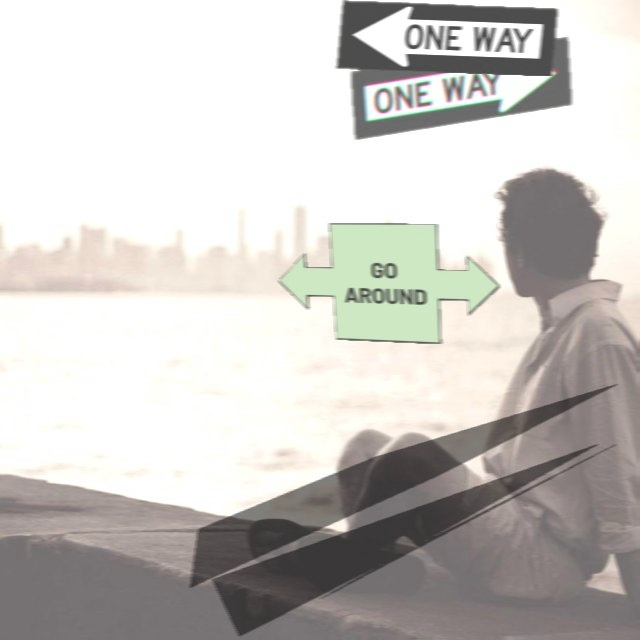GO_AROUND: (279, 224, 501, 345)
ONE_WAY_ left: (337, 1, 559, 77)
ONE_WAY_ right: (351, 37, 573, 141)
